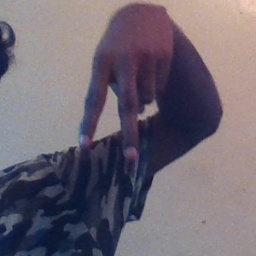Y: (76, 3, 175, 166)
